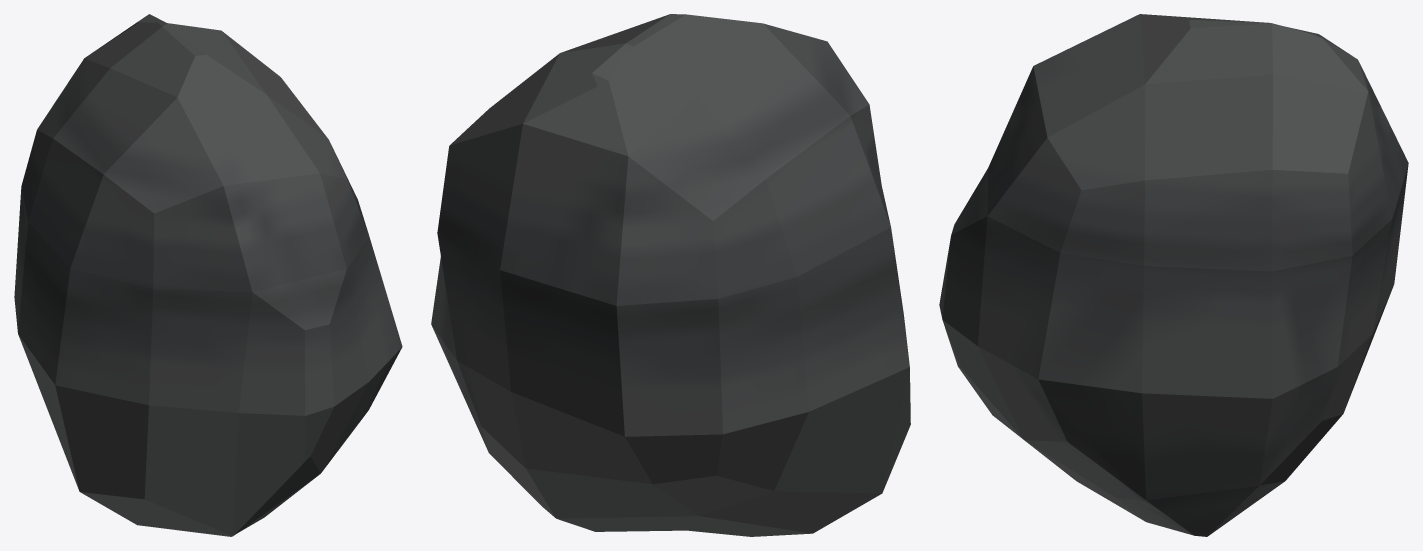
The model's file is Projectile_Rock_2_S.fbx.
3 views of the same model, side by side, from view 1: azimuth 30°, elevation 25°; view 2: azimuth 150°, elevation 25°; view 3: azimuth 270°, elevation 25° (orthographic). The views are drawn at different scales.
Parts seen in each view (by area): view 1: rock_2_S; view 2: rock_2_S; view 3: rock_2_S.
Part boxes in pixels (left/top/right/bottom): rock_2_S: left=14, top=14, right=402, bottom=536; rock_2_S: left=431, top=14, right=910, bottom=536; rock_2_S: left=939, top=14, right=1408, bottom=536.
Size of the model in its own units: 21.32 by 27.13 by 24.22.
